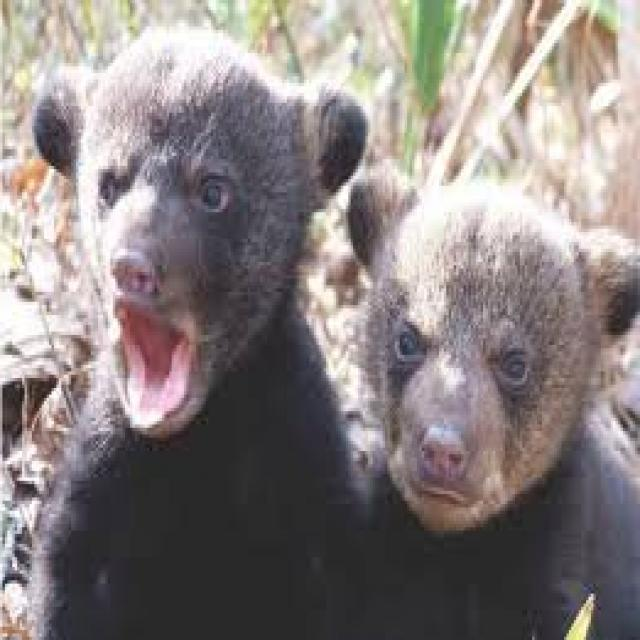bear: (34, 30, 368, 637), (336, 166, 640, 637)
